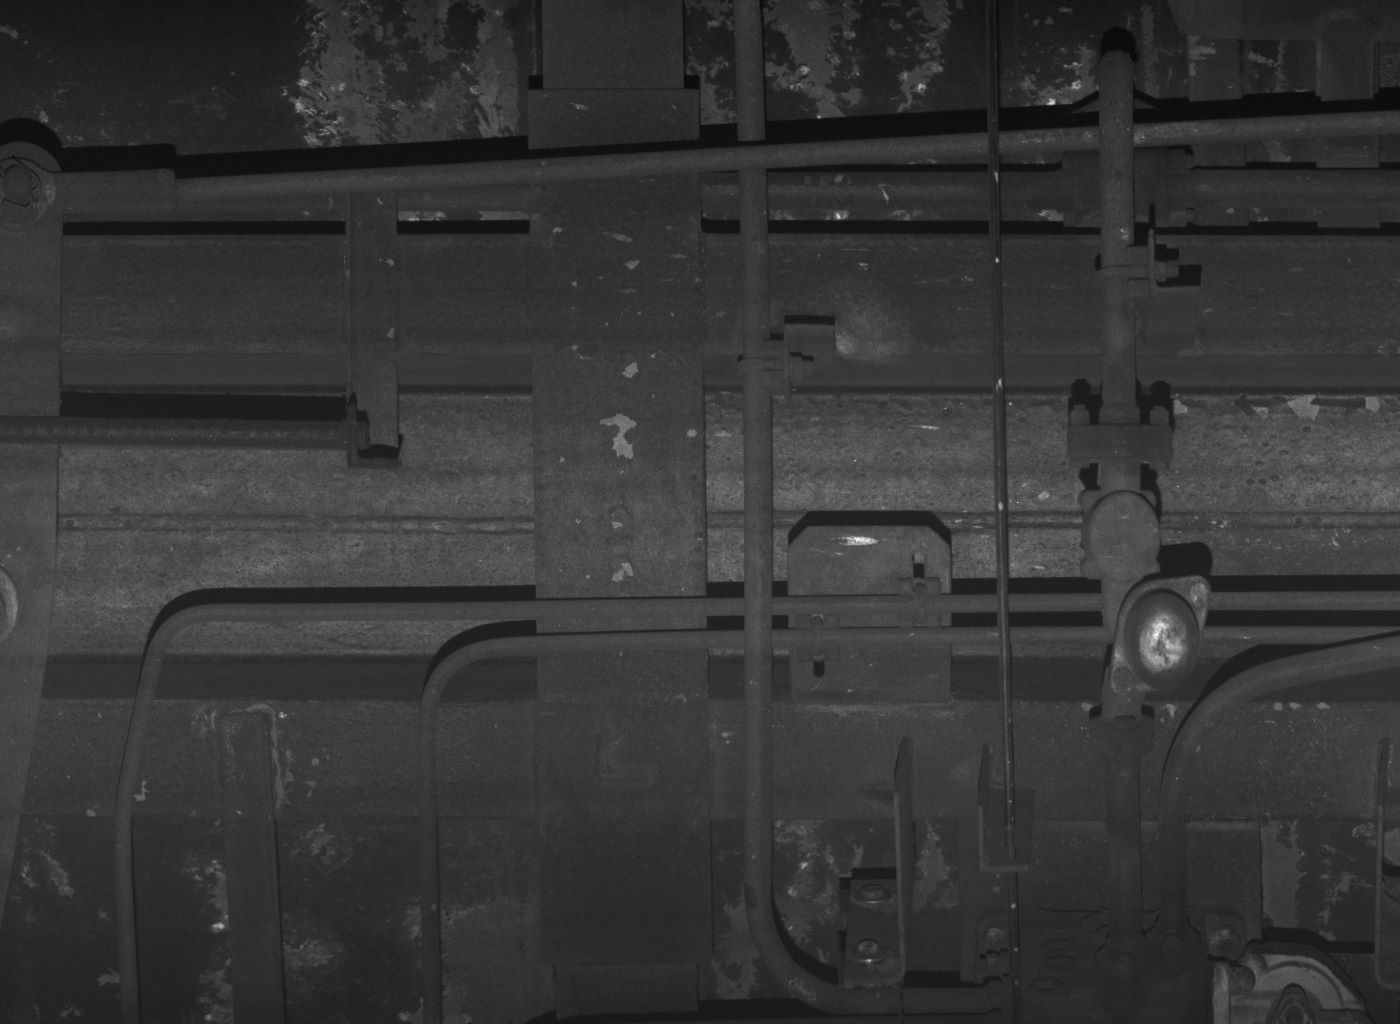normal: (1080, 488, 1162, 580)
